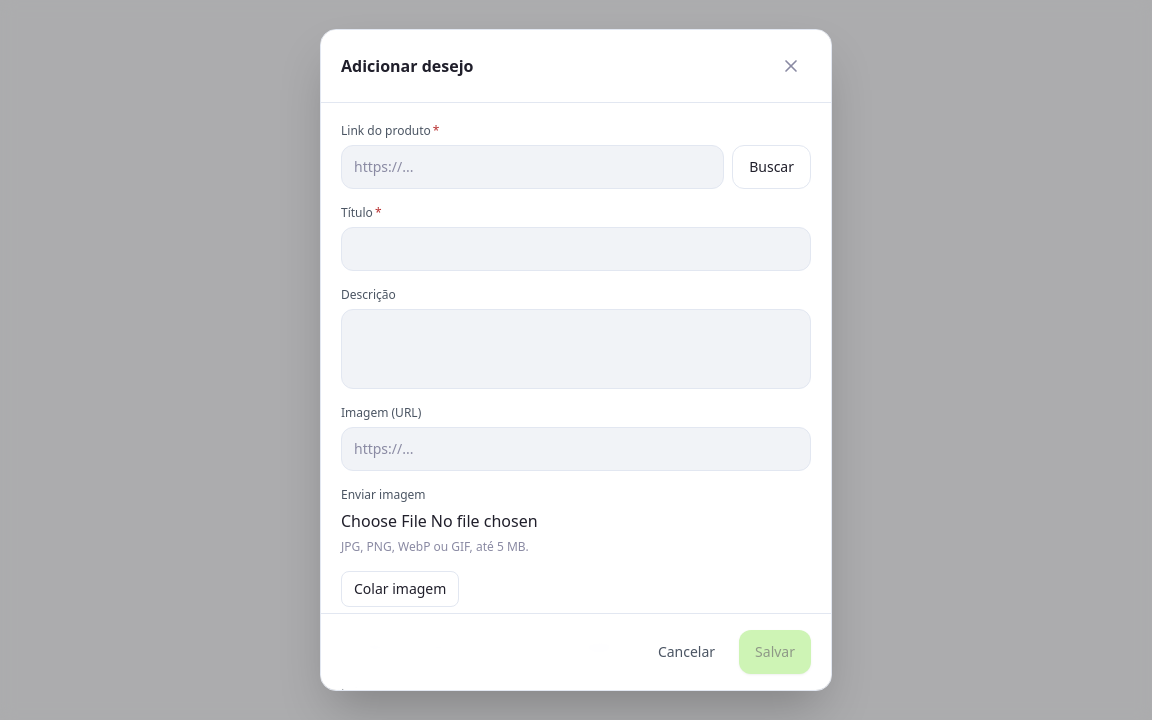
it: Adicionar desejo › permite preencher manualmente quando a leitura falha
Later steps or results of the test are not shown.
Type "https://loja.example/produto" into the field labelled "Link do produto*" at (533, 167), box [341,145,724,189]
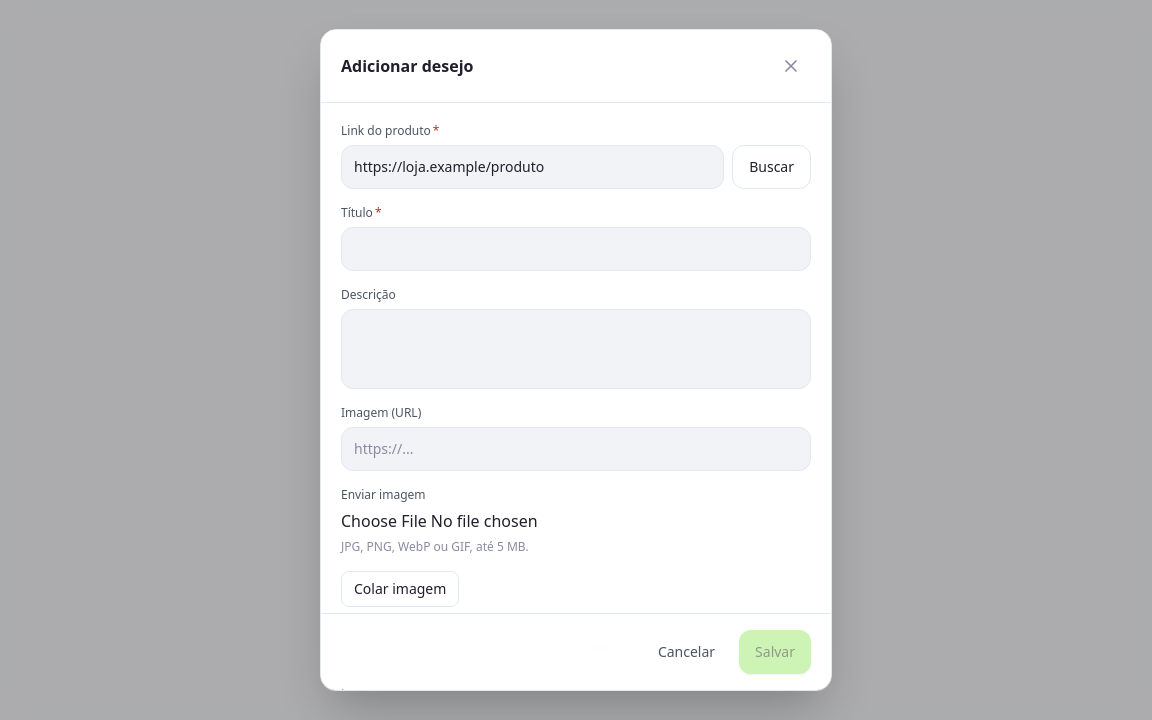
Click the button "Buscar" at (772, 167), box [732,145,811,189]
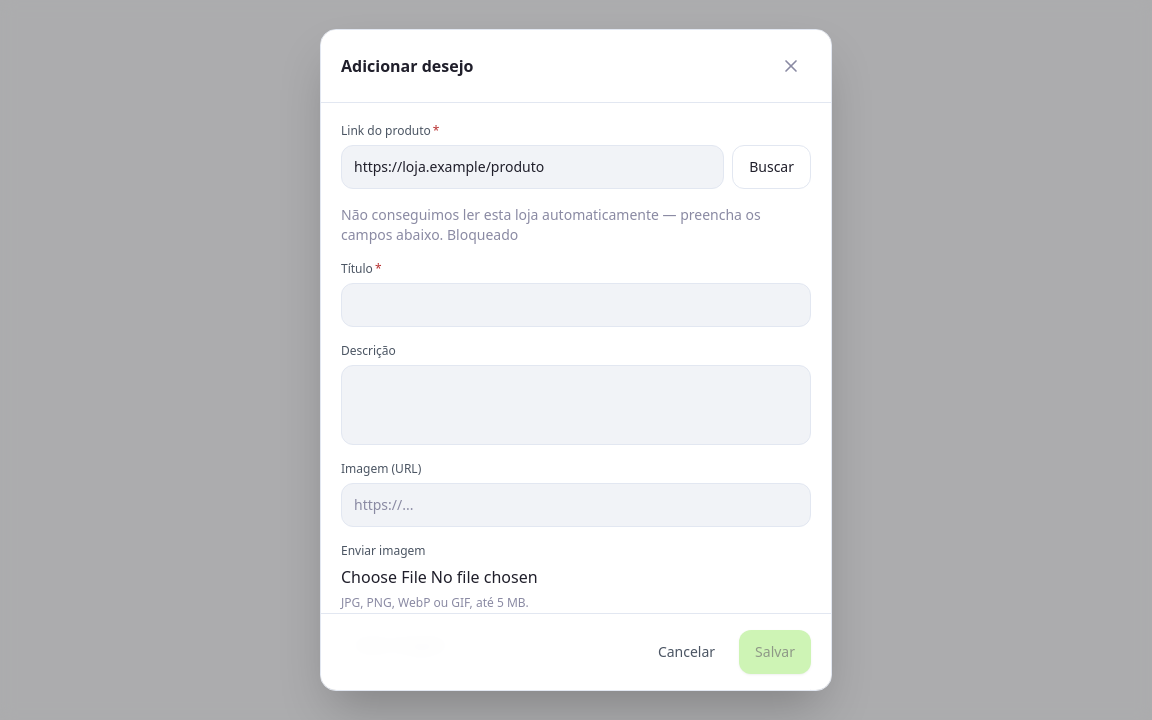
Now the text "preencha os campos abaixo" is shown, box [341,205,761,244]
